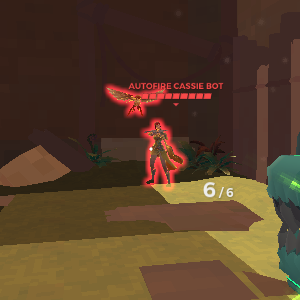model: (144, 115, 176, 190)
